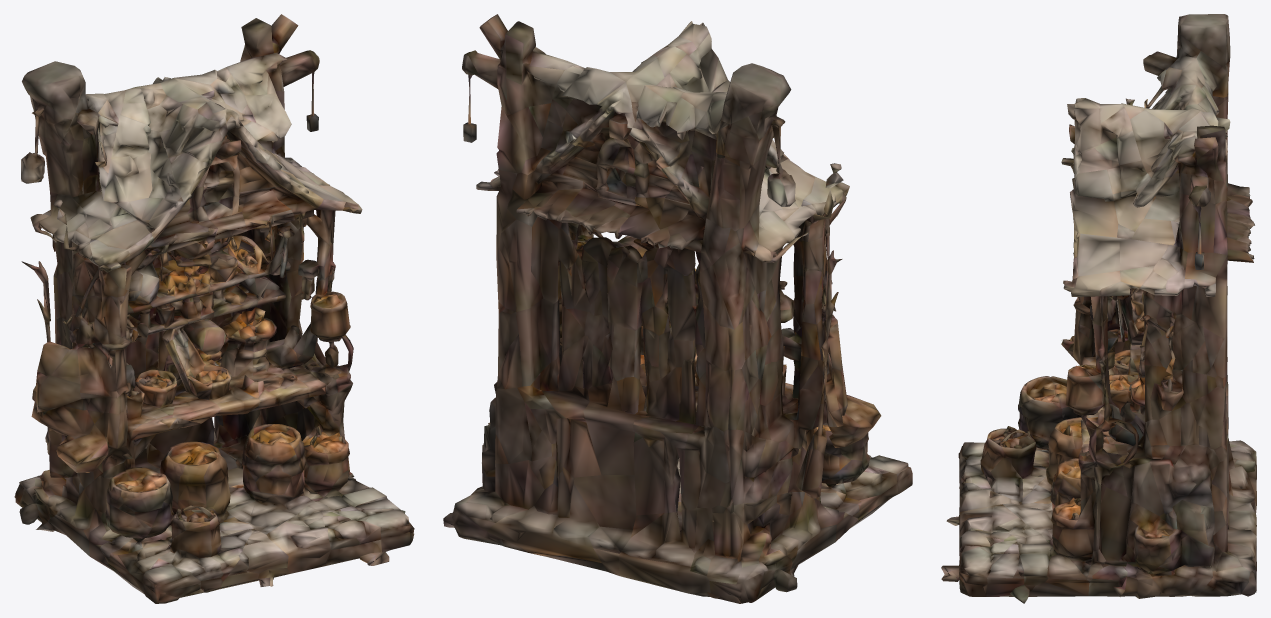
The model's file is market stall1.glb.
The picture shows the model from 3 angles, left to right: view 1: azimuth 30°, elevation 25°; view 2: azimuth 150°, elevation 25°; view 3: azimuth 270°, elevation 25°; orthographic projection. The views are drawn at different scales.
Size of the model in its own units: 1.39 by 1.9 by 1.17.
1 material, 1 textured.
